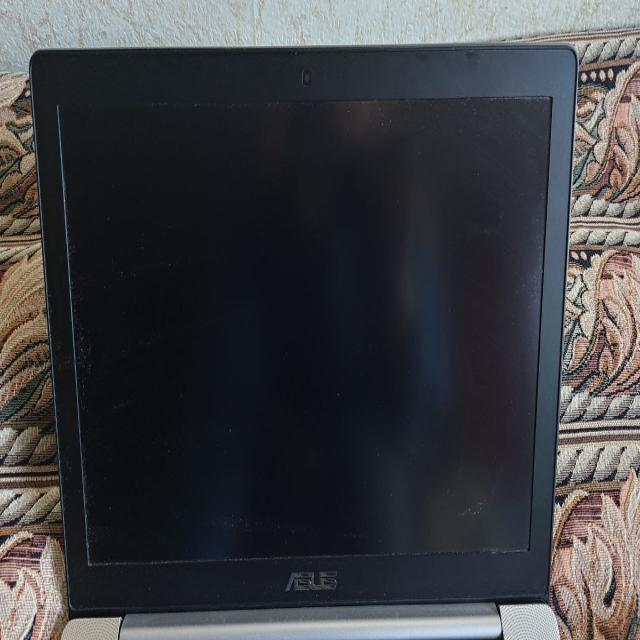scratch: (444, 450, 508, 532)
